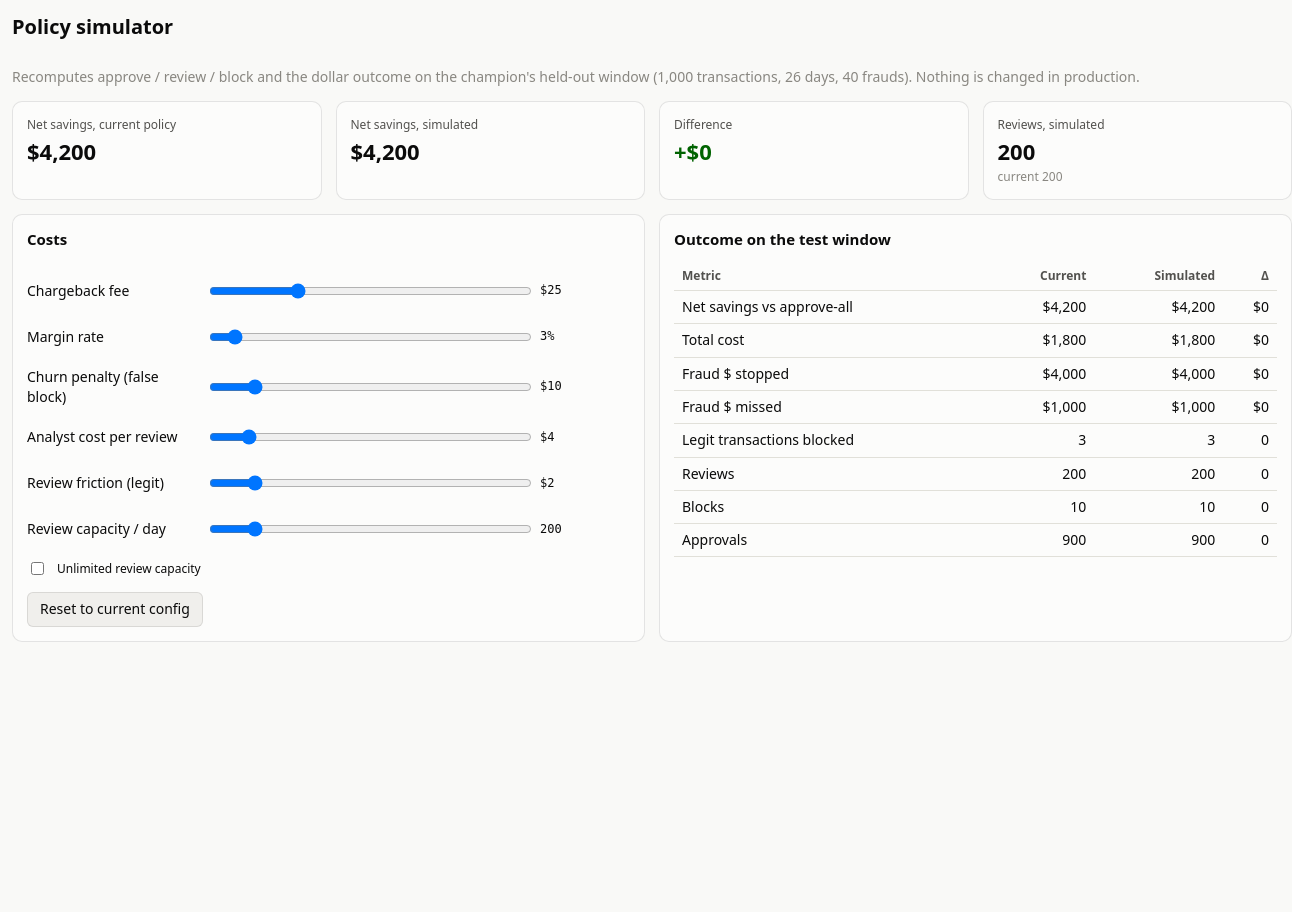
Test case: PolicySimulator › recomputes savings when a slider moves
Expected: the text with test id "sim-savings" reads "$4,200", [350,136,420,166]
Step 1. Set the slider labelled "Analyst cost per review" to "10" → (278, 437), box [209,423,532,451]
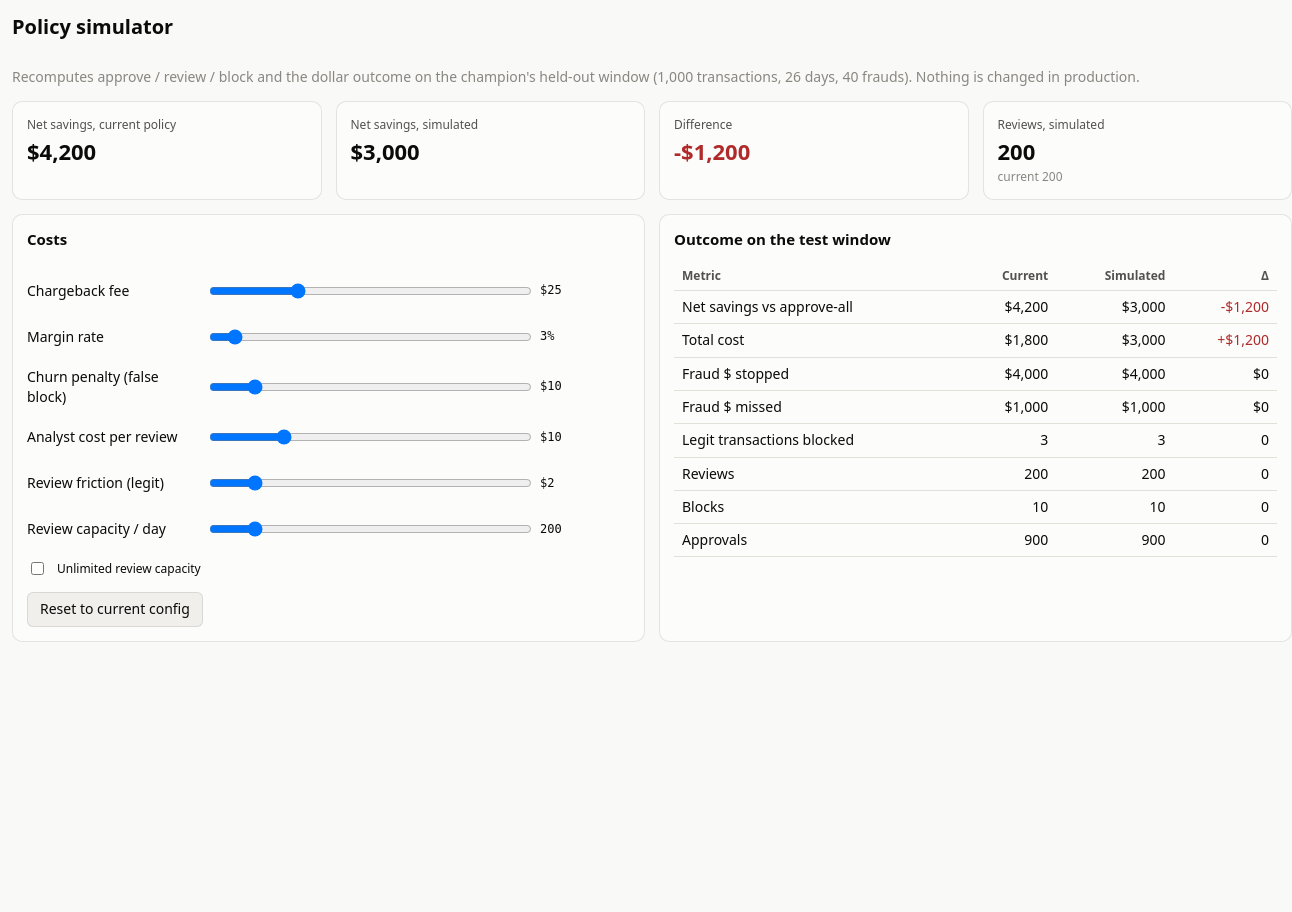
Expected: the text with test id "sim-savings" reads "$3,000", [350,136,420,166]
Expected: the text "-$1,200" is shown 2 times, [674,136,750,166]; [1174,291,1277,324]
Expected: the text "+$1,200" is shown, [1174,324,1277,357]
